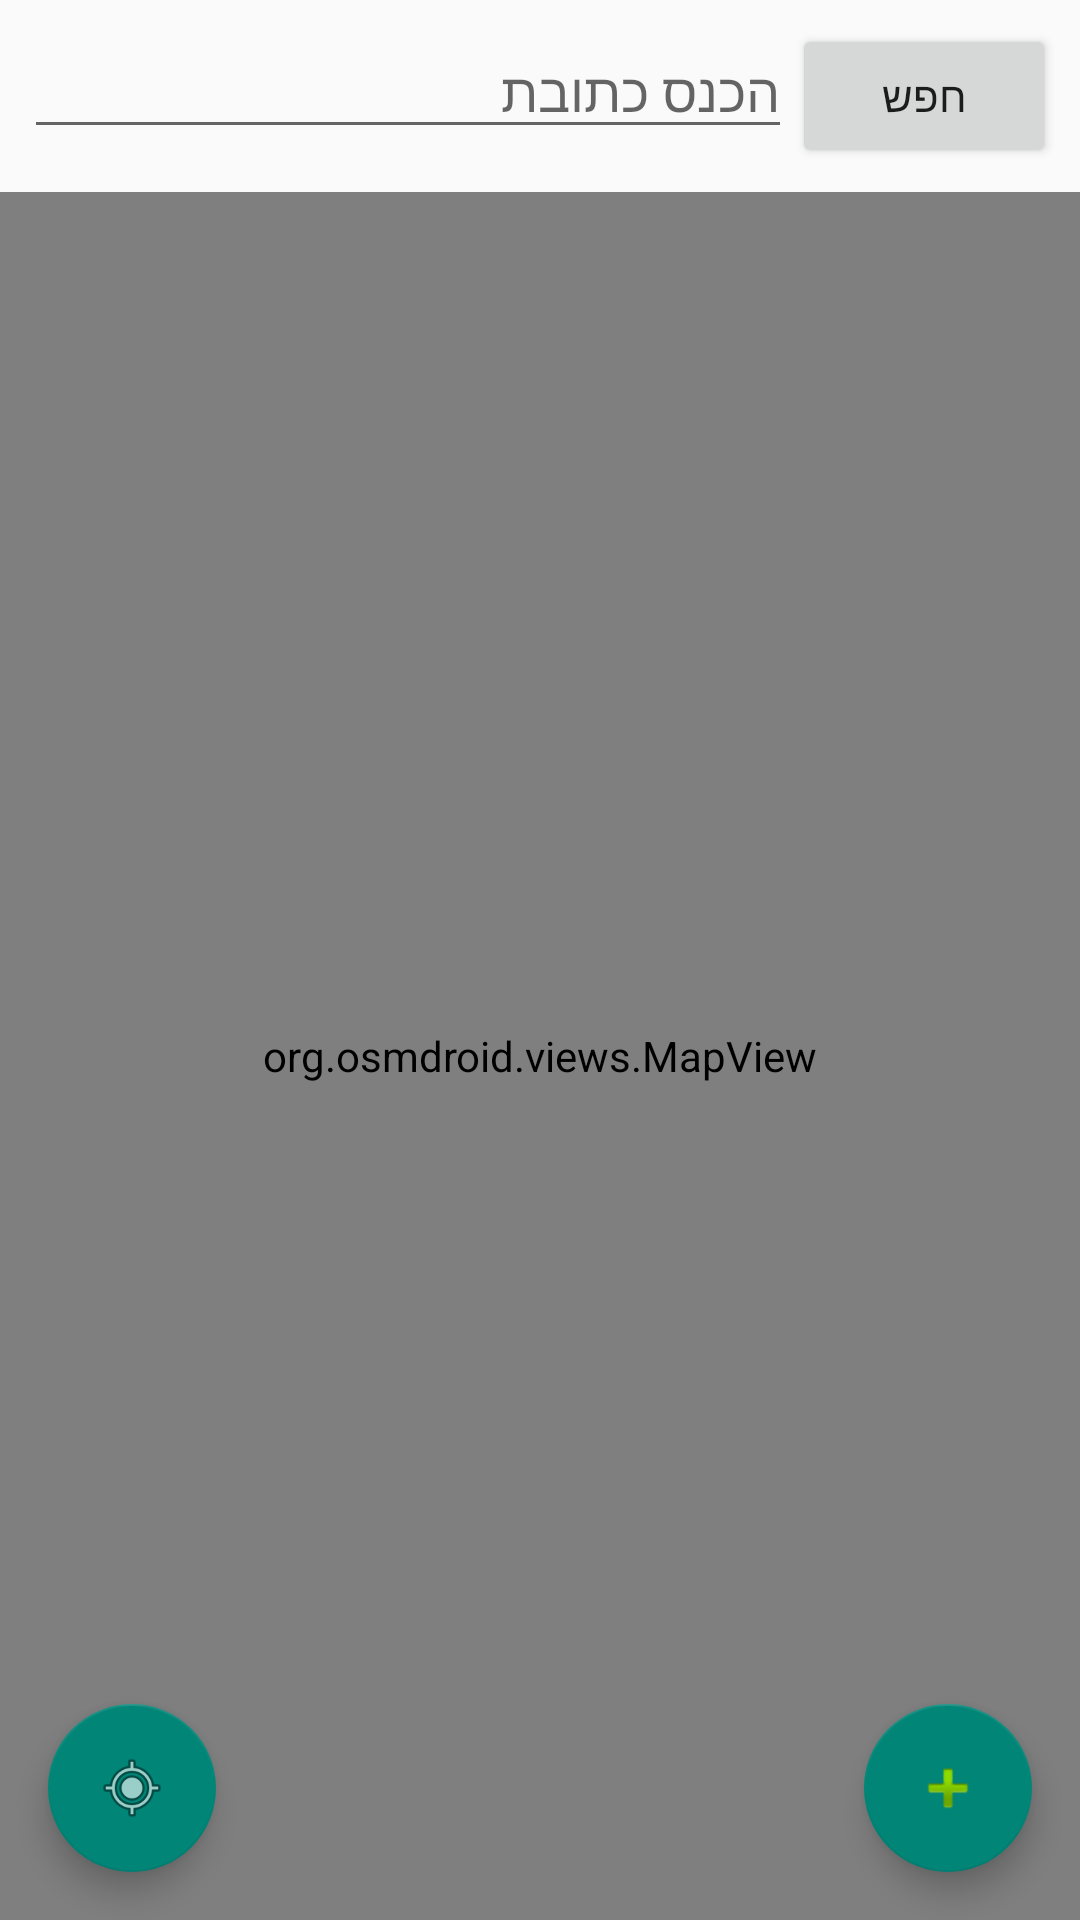

Screen size 1080 × 1920. Icon name, then its center in pixels as (x,y):
הוסף חנייה: (948,1788)
מרכז על המיקום שלי: (132,1788)
